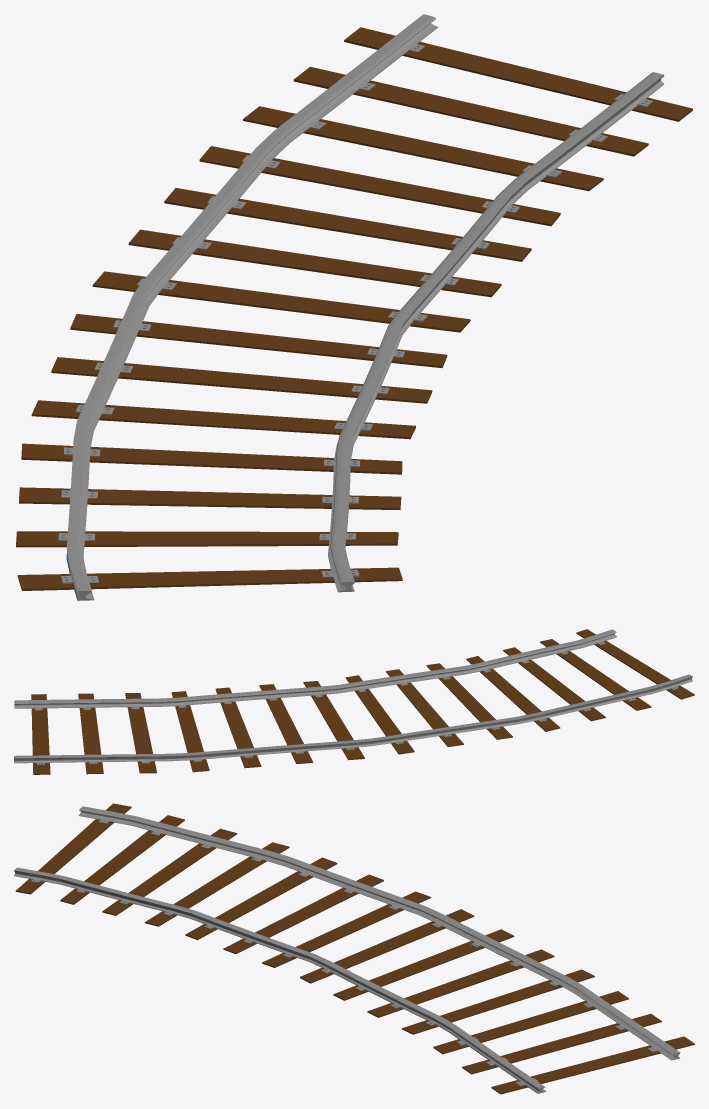
File: TrainTrack2.fbx
3 renders of one model, top to bottom at view 1: azimuth 30°, elevation 25°; view 2: azimuth 150°, elevation 25°; view 3: azimuth 270°, elevation 25°, orthographic. The views are drawn at different scales.
Visible parts, largest first — view 1: Cube.011; view 2: Cube.011; view 3: Cube.011.
Part boxes in pixels (box(x1,y1,x2,y2)): Cube.011: box(16, 14, 692, 600); Cube.011: box(14, 629, 694, 774); Cube.011: box(14, 803, 694, 1094).
Size of the model in its own units: 1586 by 22.68 by 1580.
